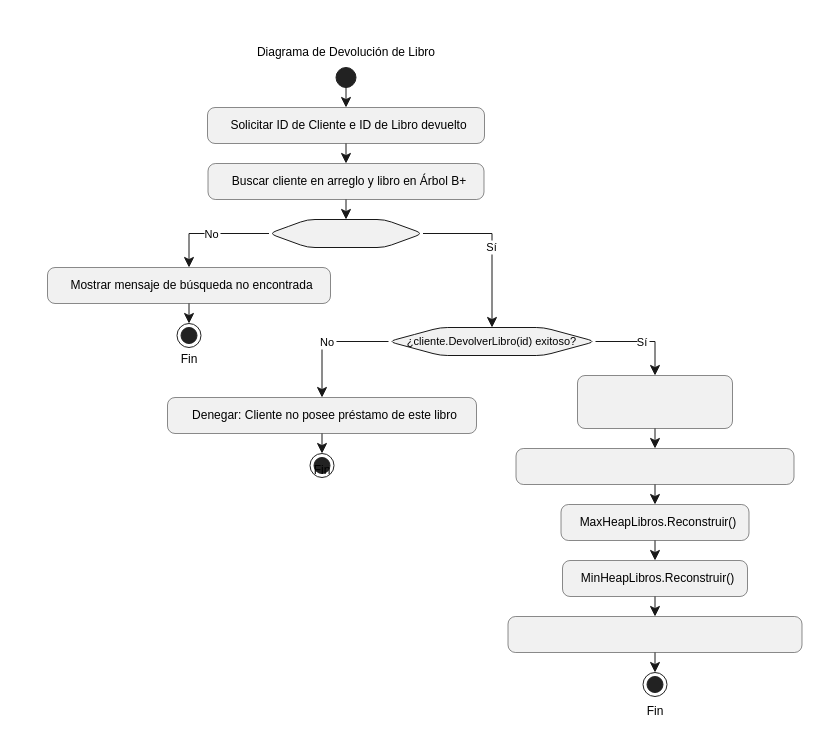
Some shapes in this 819 by 753 pixel diagram are drawn without their labels. The shapes that lost their labels are listed below. From the top down, each one's centre as x and y in pixels, then its label:
At pixel 345 233: "¿Cliente y Libro existen?".
At pixel 654 401: "libro.Devolver() (CopiasDisponibles++)".
At pixel 654 466: "Registrar bitácora en registro_prestamos.txt".
At pixel 654 634: "Mostrar mensaje de reingreso exitoso de copia".
